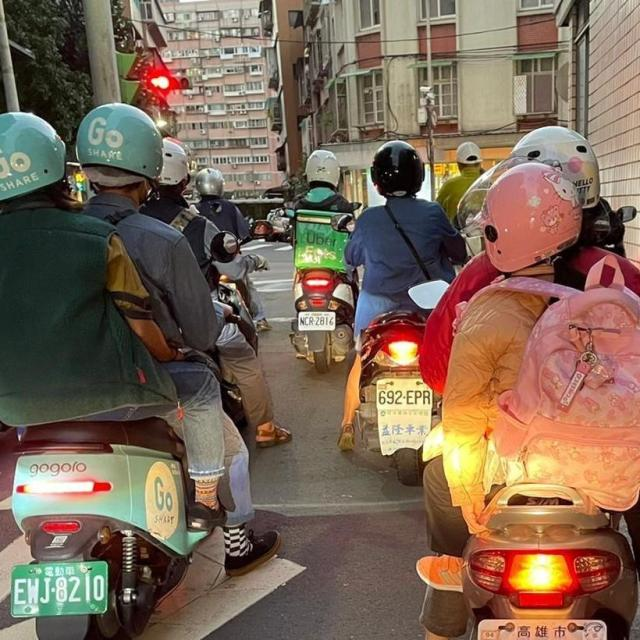GW: (2, 547, 122, 629)
W: (471, 612, 609, 640), (369, 371, 437, 418), (292, 302, 342, 336)
